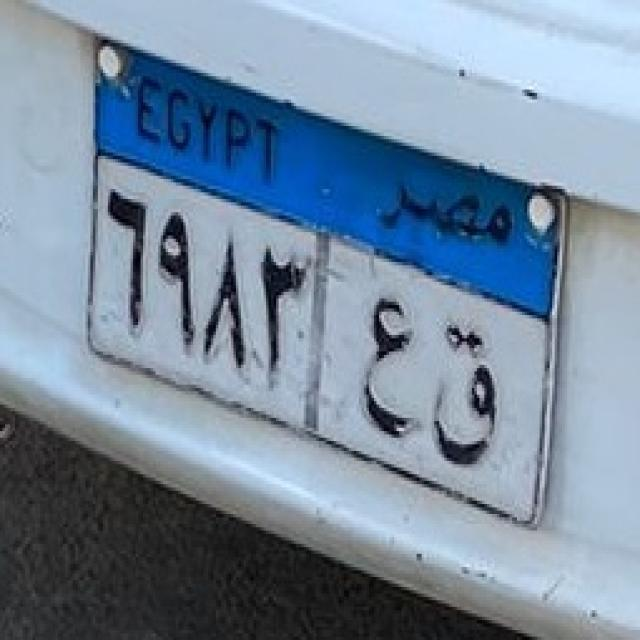3: (252, 245, 318, 389)
6: (95, 188, 163, 335)
8: (200, 230, 252, 379)
9: (154, 202, 214, 362)
Een: (352, 288, 427, 448)
Taa: (419, 312, 517, 484)
